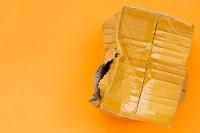damaged package: (89, 44, 122, 108)
undamaged: (84, 2, 196, 128)
